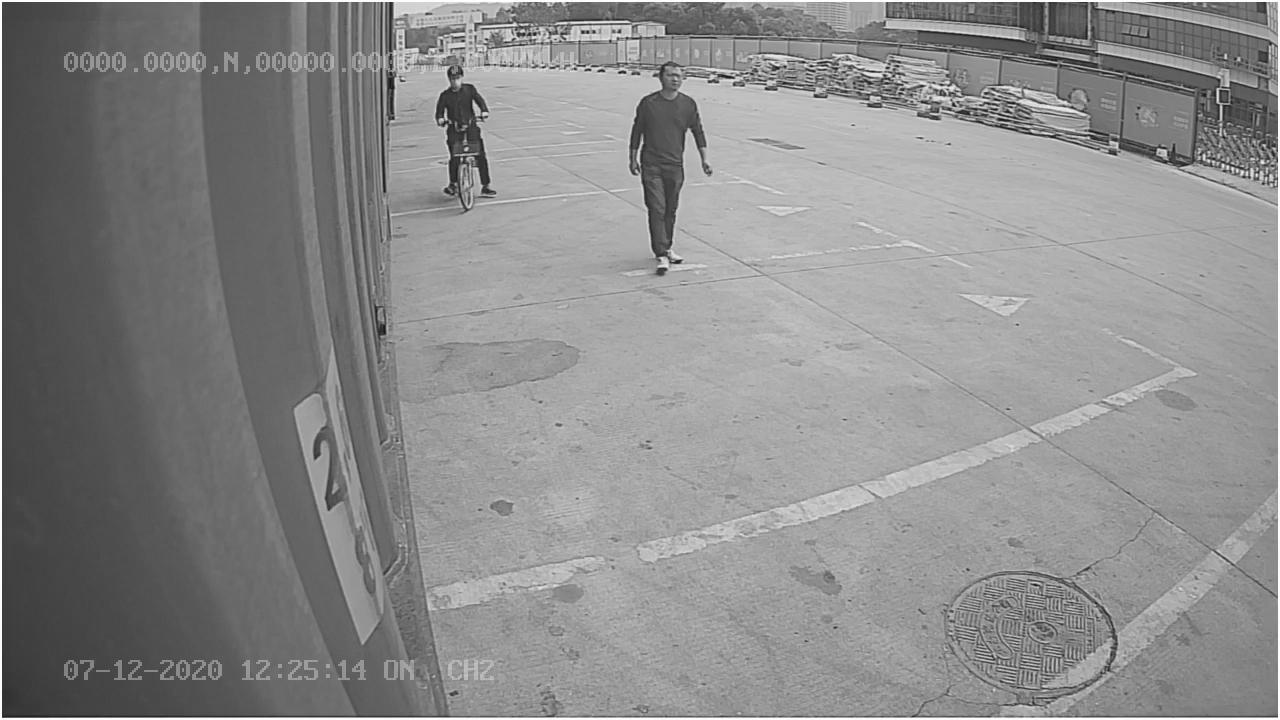person: (623, 60, 720, 275)
